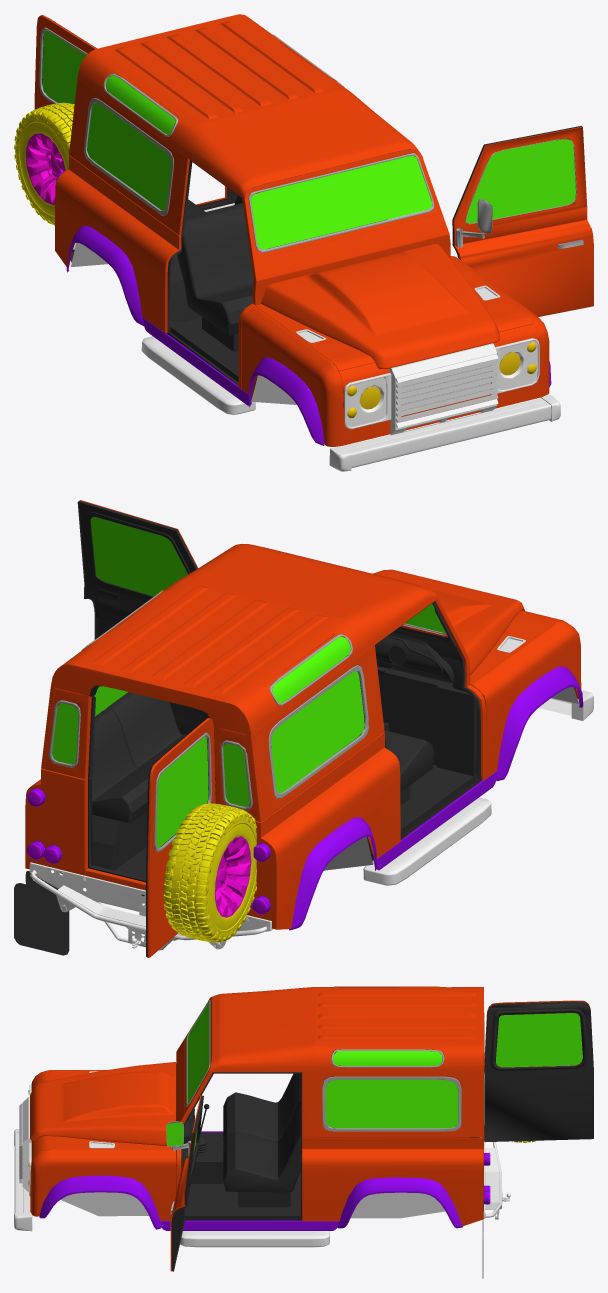
Rendered from SUV_1_Parts.fbx.
3 renders of one model, top to bottom at view 1: azimuth 30°, elevation 25°; view 2: azimuth 150°, elevation 25°; view 3: azimuth 270°, elevation 25°, orthographic. The views are drawn at different scales.
Parts seen in each view (by area): view 1: SUV_1, Front_Door, Back_Door; view 2: SUV_1, Back_Door, Front_Door, Mud; view 3: SUV_1, Back_Door, Front_Door.
Boxes of the visible parts, x1=… form: SUV_1: x1=55, y1=14, x2=560, y2=471; Front_Door: x1=452, y1=126, x2=593, y2=316; Back_Door: x1=14, y1=15, x2=97, y2=225; SUV_1: x1=25, y1=544, x2=593, y2=950; Back_Door: x1=146, y1=718, x2=256, y2=957; Front_Door: x1=77, y1=500, x2=197, y2=639; Mud: x1=14, y1=871, x2=69, y2=955; SUV_1: x1=14, y1=986, x2=510, y2=1247; Back_Door: x1=484, y1=1000, x2=593, y2=1142; Front_Door: x1=166, y1=1095, x2=203, y2=1271.
Size of the model in its own units: 477 by 330 by 800.
